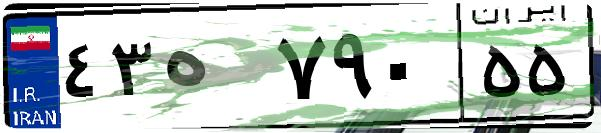0: (385, 28, 445, 110)
3: (110, 28, 158, 98)
4: (57, 26, 110, 100)
5: (475, 38, 525, 113), (525, 38, 570, 115)
7: (270, 28, 330, 110)
9: (330, 28, 385, 110)
ه: (158, 20, 270, 120)
